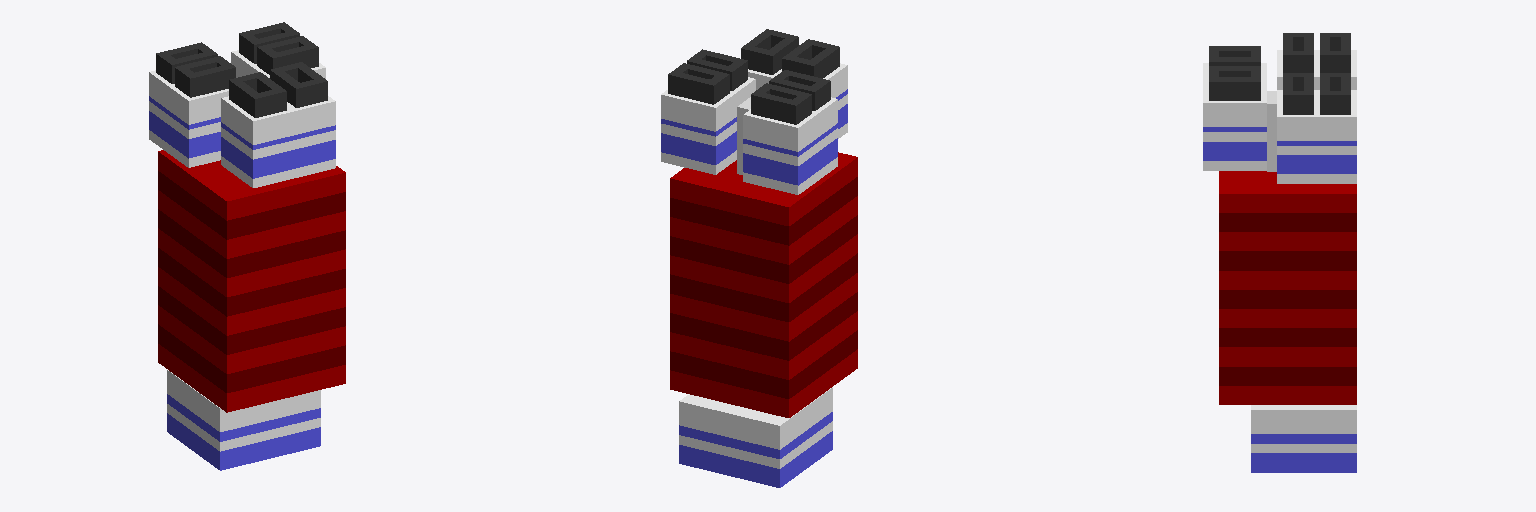
3 renders of one model, left to right at view 1: azimuth 30°, elevation 25°; view 2: azimuth 150°, elevation 25°; view 3: azimuth 270°, elevation 25°, orthographic.
Size of the model in its own units: 30 by 80 by 29.
1 materials, 1 textured.